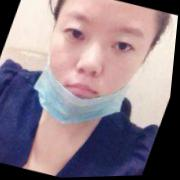WRONG: (29, 1, 162, 126)
